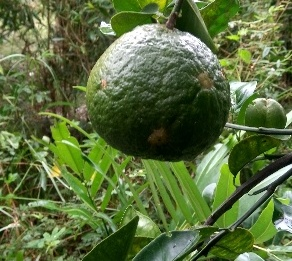Cam: (85, 21, 231, 163)
